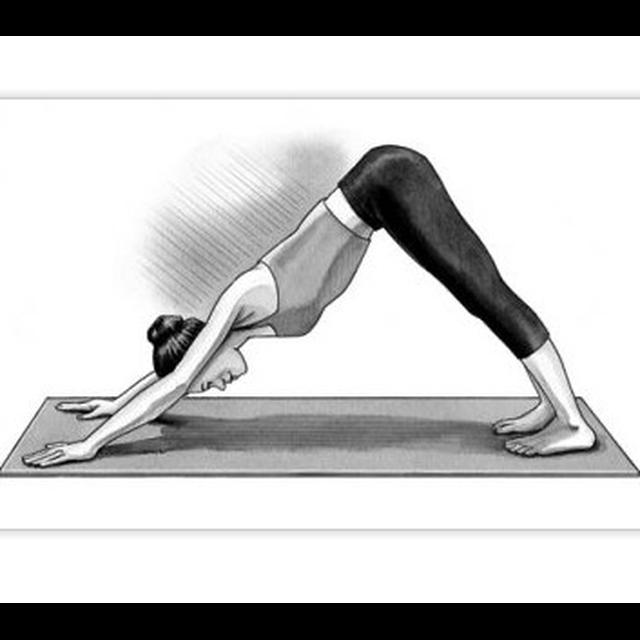Downward-Facing_Dog: (18, 137, 604, 471)
